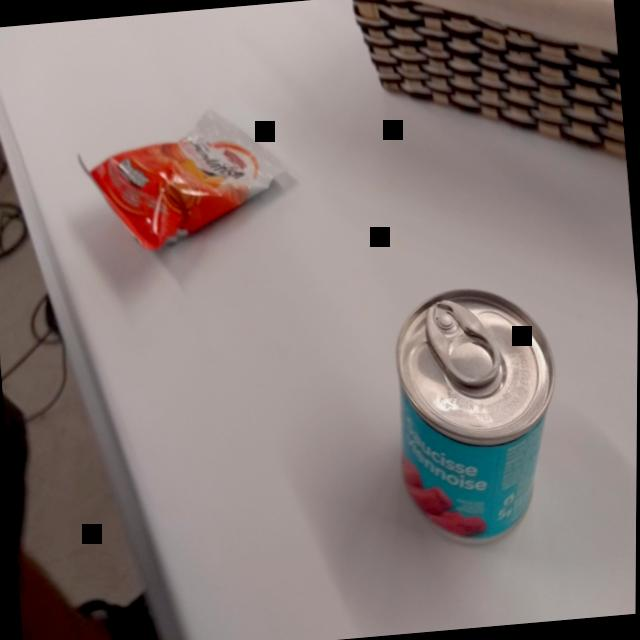crackers: (68, 96, 306, 263)
sausages: (380, 273, 573, 554)
